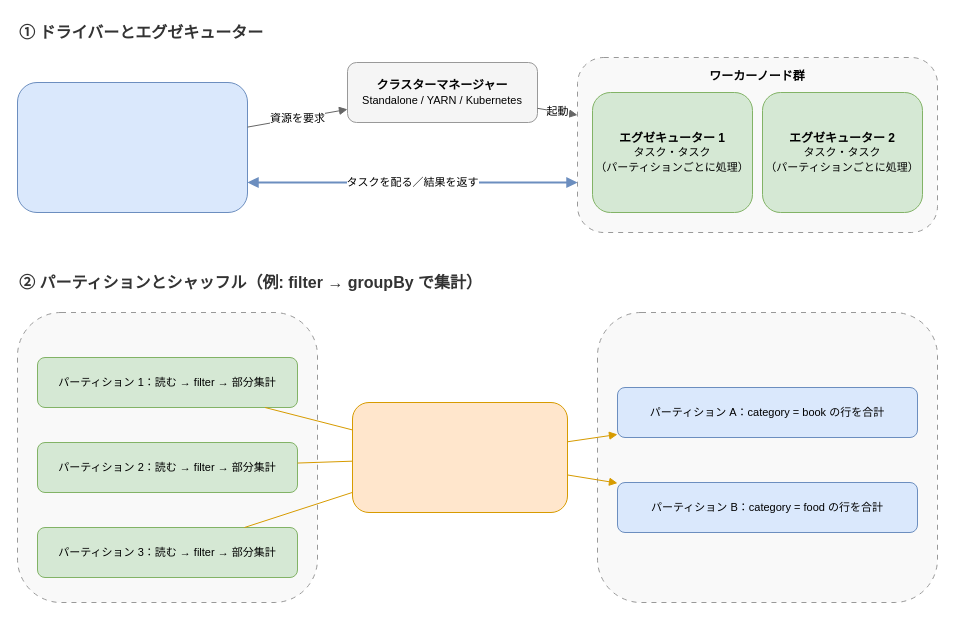
This 955x620 diagram has some shape labels left out. Here are the shapes that lost their labels. From the top down, the box of each, then its label:
(16, 82, 248, 212): ドライバー （SparkSession） ・コードを実行計画に変換 ・ステージ／タスクに分割 ・結果を受け取る
(16, 312, 318, 602): ステージ 1（狭い変換：読み込み・filter）
(352, 402, 568, 512): シャッフル 同じキーの行を 同じパーティションへ ディスクとネットワーク越しに再配置
(596, 312, 938, 602): ステージ 2（キーごとに最終集計）
